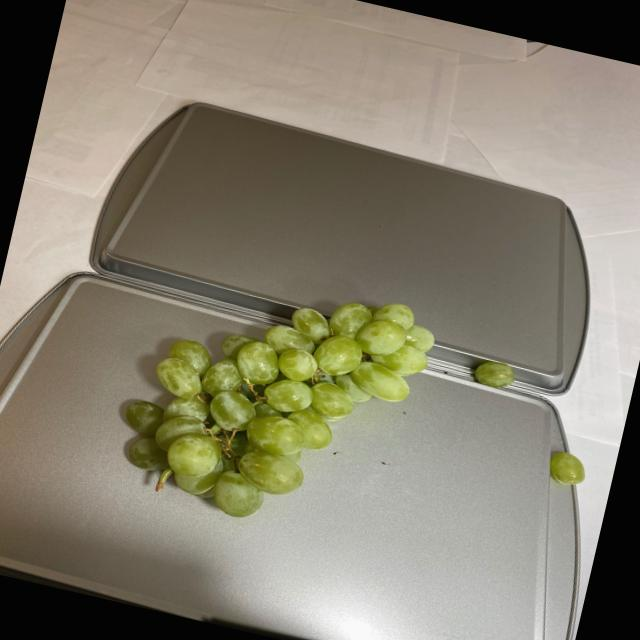grapes: (104, 252, 447, 552), (542, 445, 594, 489), (468, 356, 517, 390)
